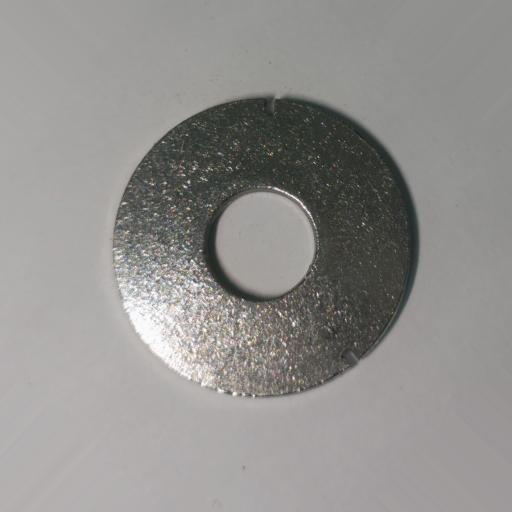burr: (341, 350, 360, 368), (262, 97, 278, 118)
